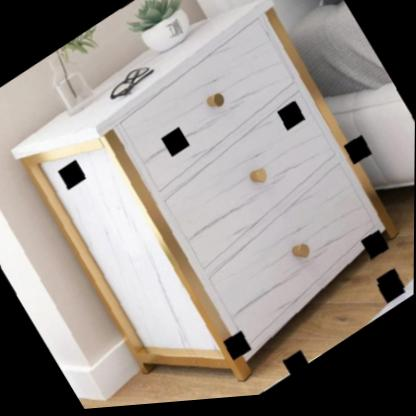Nightstand: (11, 0, 403, 408)
